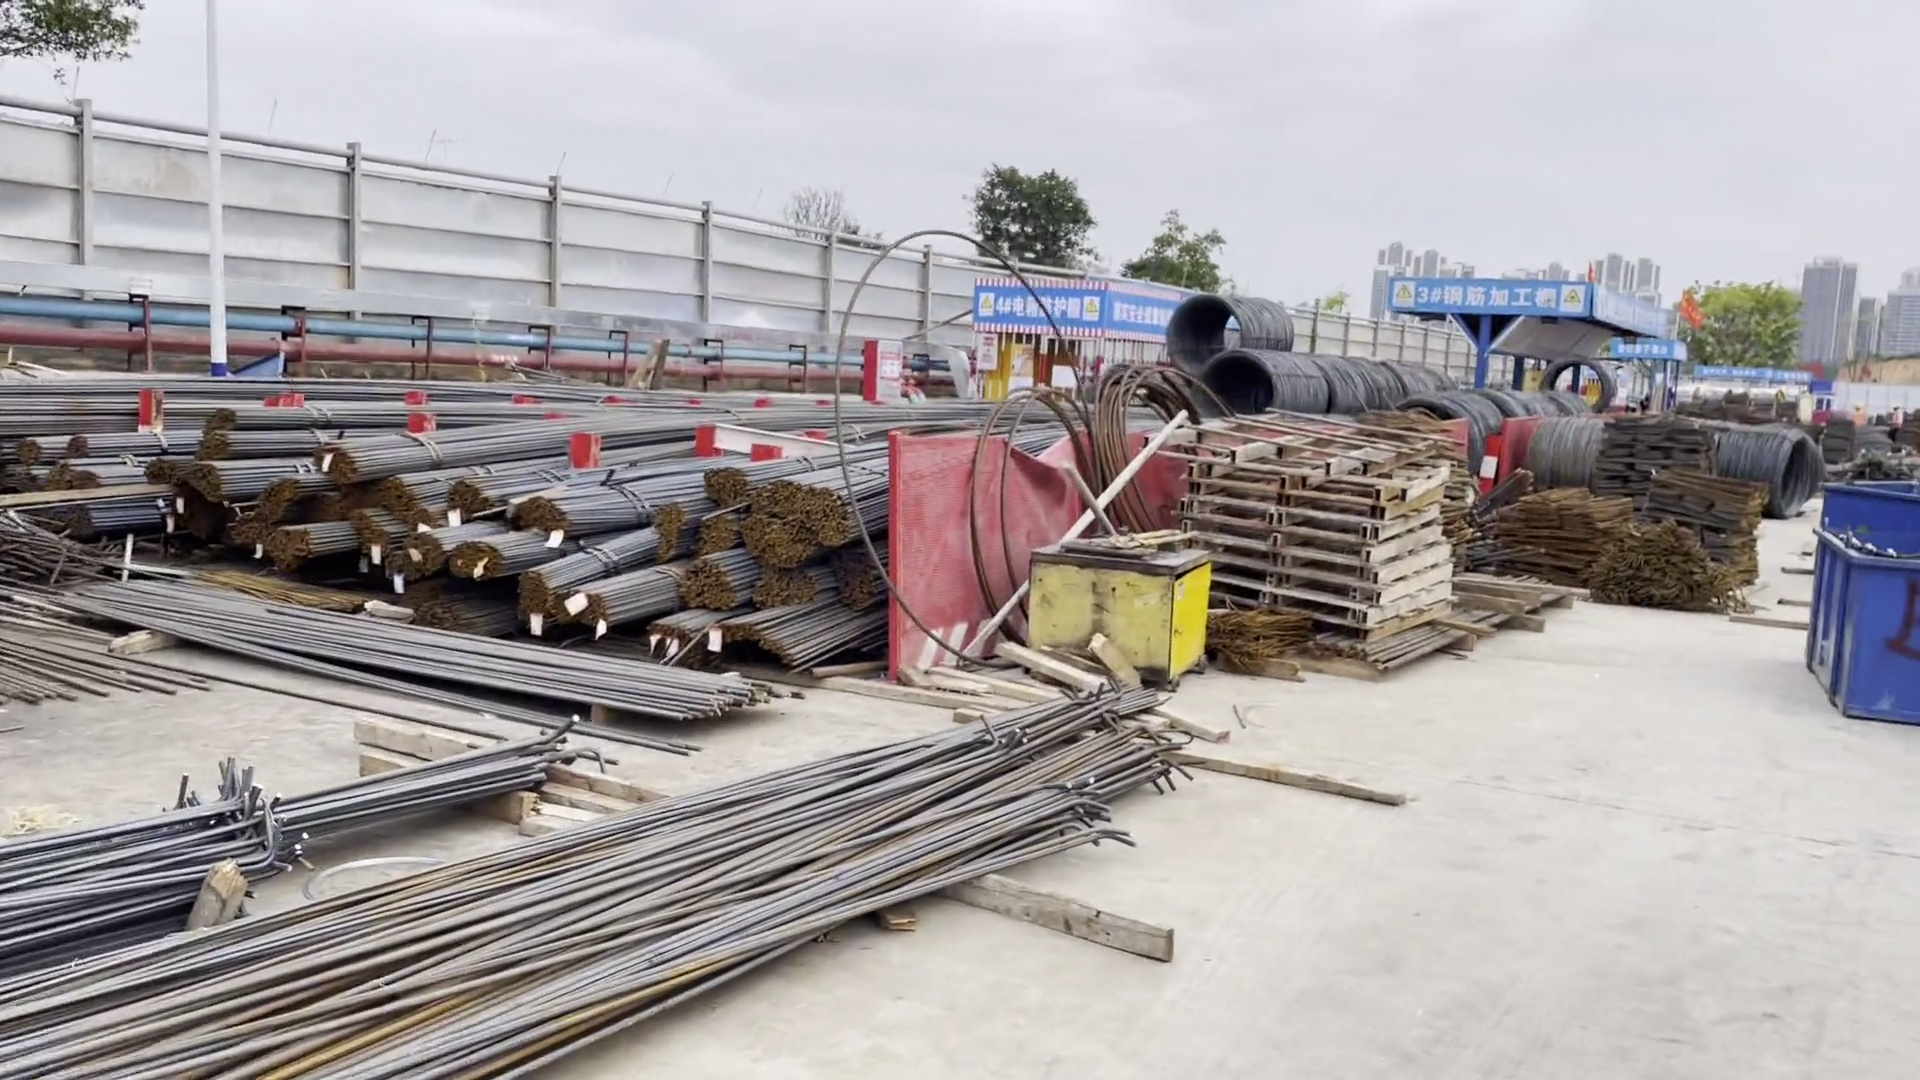hopper: (1800, 535, 1920, 727), (1799, 452, 1920, 533)
rebar: (738, 433, 1052, 563), (4, 360, 592, 415), (326, 407, 733, 483), (727, 585, 897, 692), (394, 448, 673, 512), (698, 444, 916, 516), (516, 520, 676, 608), (580, 563, 702, 644), (193, 407, 506, 435), (175, 455, 342, 497), (225, 479, 322, 543), (255, 518, 355, 580), (442, 527, 555, 582), (185, 429, 363, 462), (695, 546, 774, 600), (382, 520, 450, 583), (340, 509, 402, 562), (657, 613, 746, 647), (128, 454, 193, 485)
